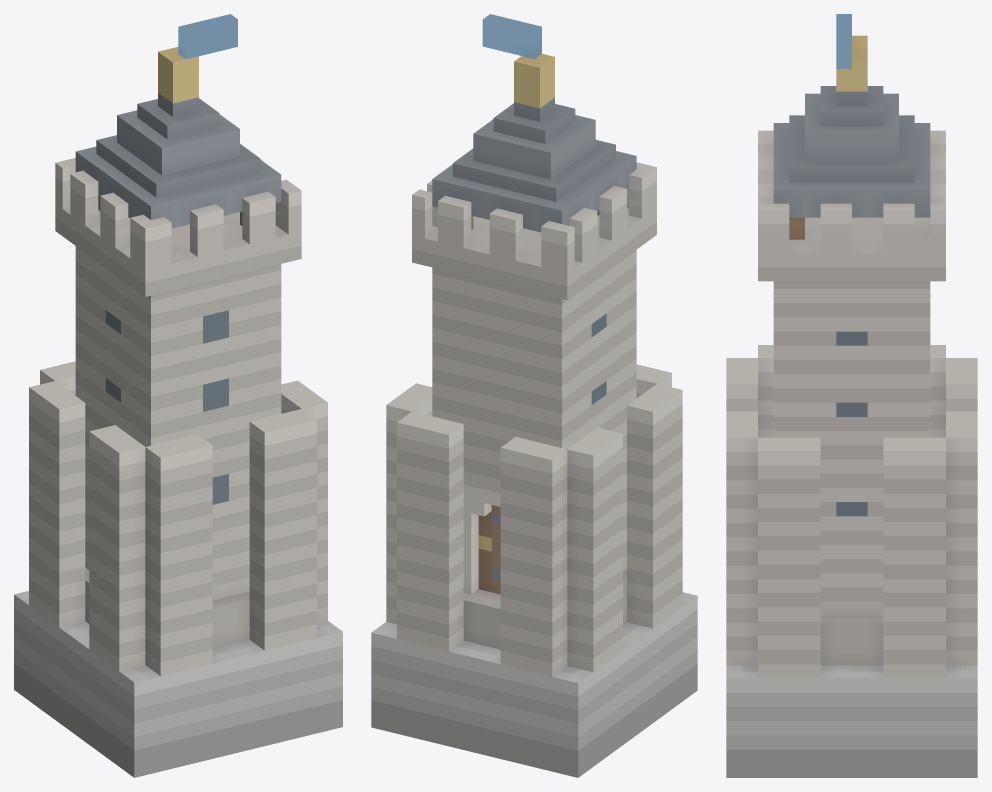
Rendered from harbour_tower.glb.
3 views of the same model, side by side, from view 1: azimuth 30°, elevation 25°; view 2: azimuth 150°, elevation 25°; view 3: azimuth 270°, elevation 25° (orthographic). The views are drawn at different scales.
Parts seen in each view (by area): view 1: harbour_tower; view 2: harbour_tower; view 3: harbour_tower.
Boxes of the visible parts, x1,y1,x2,y2 form: harbour_tower: (14,14,342,777); harbour_tower: (371,14,697,777); harbour_tower: (726,14,977,777).
Bounding box in the file's own units: 2 × 6.25 × 2.
